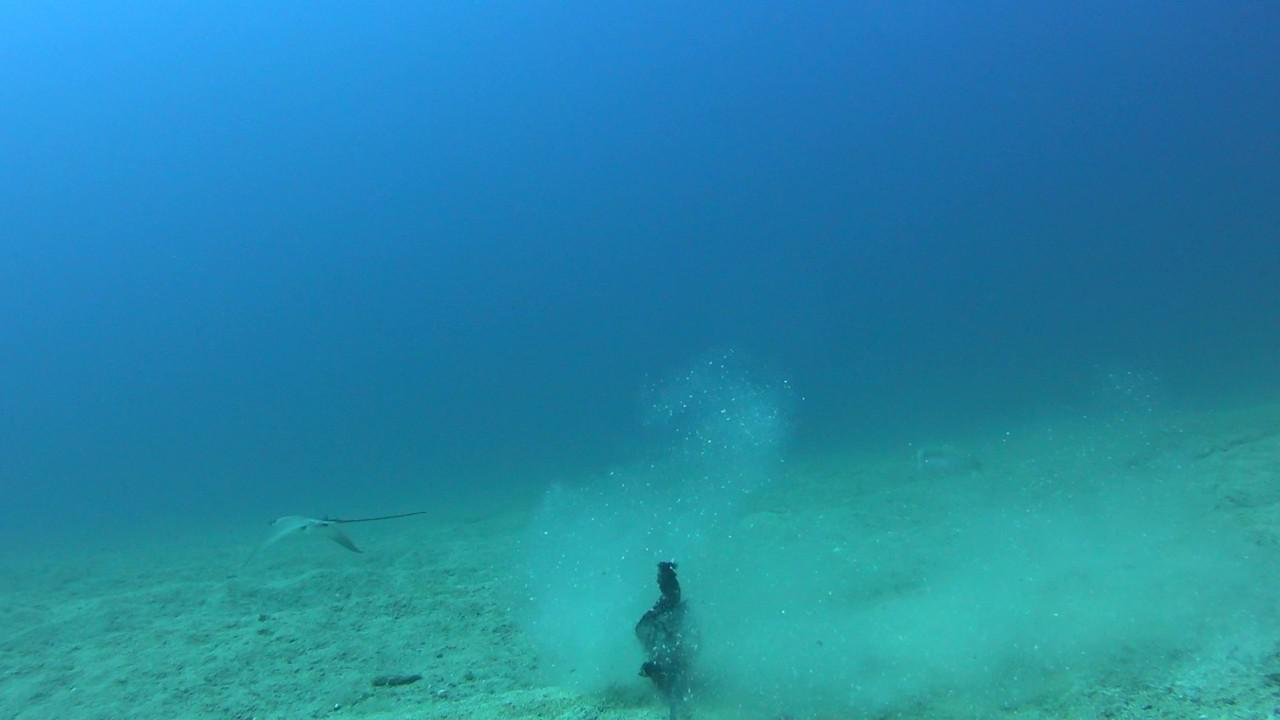myliobatis: (230, 479, 437, 578)
